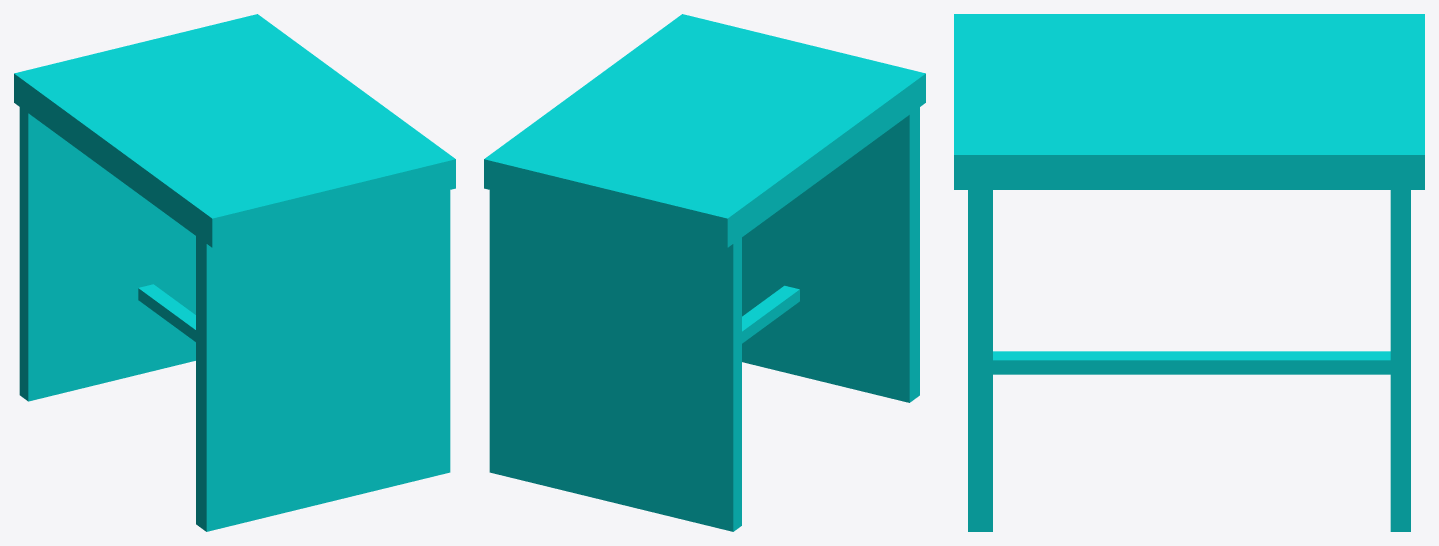
File: SM_Prop_Bar_Table_02_Collision.fbx
3 renders of one model, left to right at view 1: azimuth 30°, elevation 25°; view 2: azimuth 150°, elevation 25°; view 3: azimuth 270°, elevation 25°, orthographic. The views are drawn at different scales.
Parts seen in each view (by area): view 1: SM_Prop_Bar_Table_02_Collision; view 2: SM_Prop_Bar_Table_02_Collision; view 3: SM_Prop_Bar_Table_02_Collision.
Boxes of the visible parts, x1=… form: SM_Prop_Bar_Table_02_Collision: x1=14, y1=14, x2=455, y2=531; SM_Prop_Bar_Table_02_Collision: x1=484, y1=14, x2=925, y2=531; SM_Prop_Bar_Table_02_Collision: x1=954, y1=14, x2=1424, y2=531.
Size of the model in its own units: 88.64 by 110 by 125.
